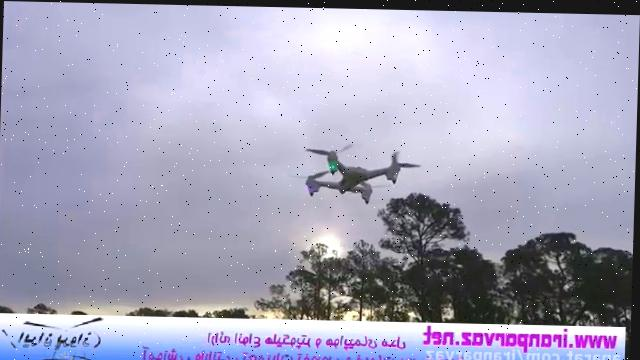drone: (286, 137, 426, 204)
